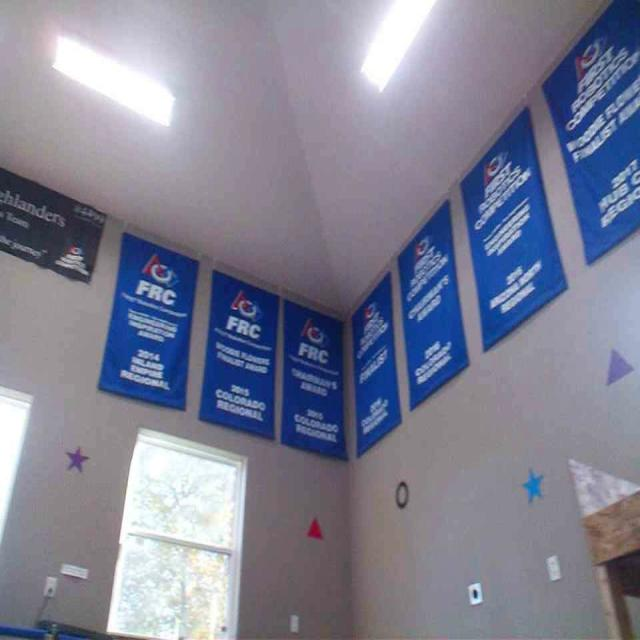ring_black: (395, 479, 410, 509)
star_blue: (521, 466, 544, 504)
star_purple: (63, 445, 90, 473)
triangle_purple: (605, 346, 635, 386)
triangle_red: (306, 514, 325, 538)
